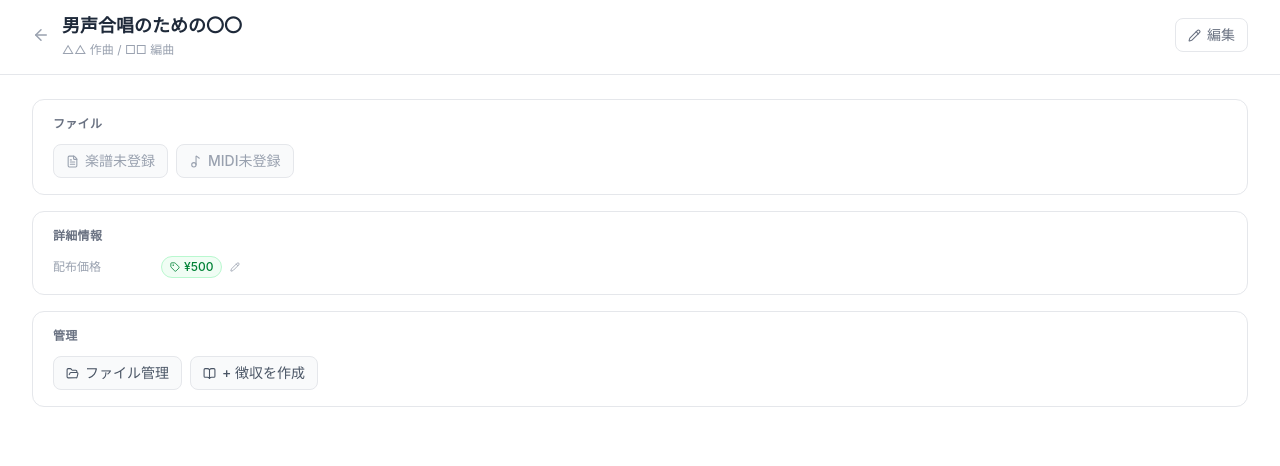
Scenario: ScoreDetailPage（配布価格インライン編集） › 保存に失敗したら、入力欄の下に理由を出して入力を残す
Click the button named "配布価格を編集".
click(235, 267)  # box x1=228 y1=260 x2=242 y2=274
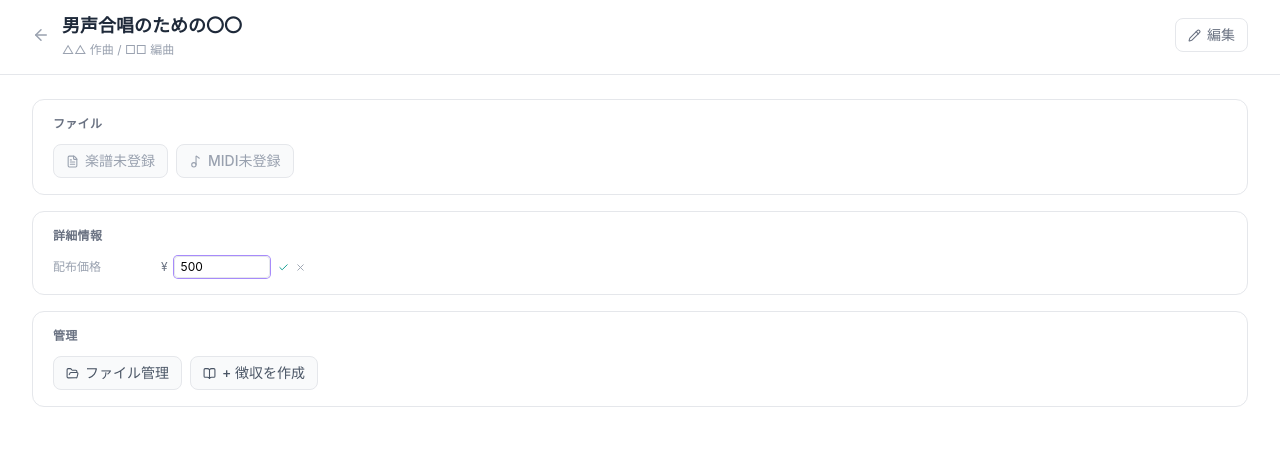
Replace the text in the field named "配布価格" with "800" at (222, 267), box x1=174 y1=256 x2=270 y2=278
Then press Enter
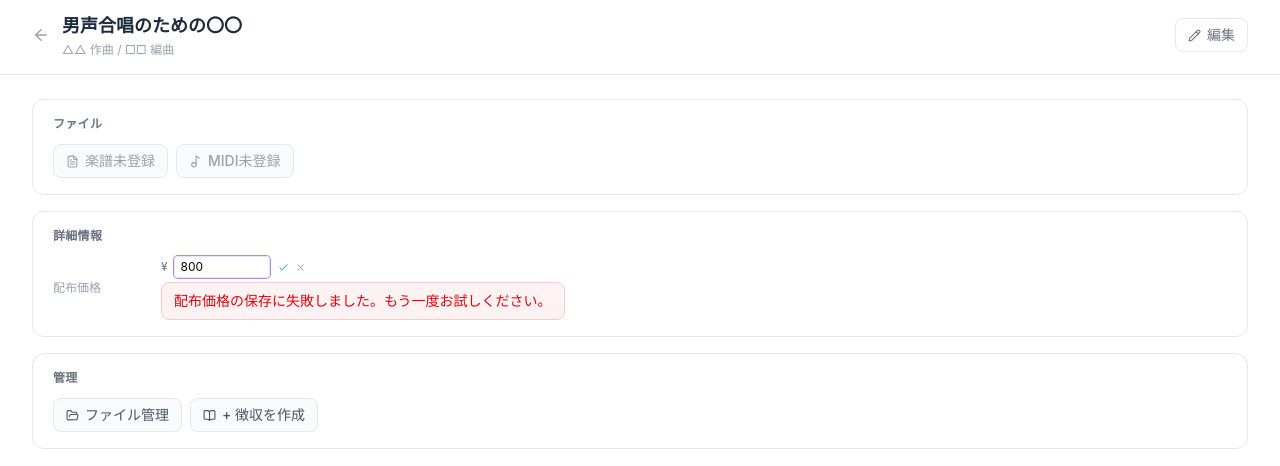
Result: the text "配布価格の保存に失敗しました。もう一度お試しください。" is shown at x1=161 y1=282 x2=565 y2=320
